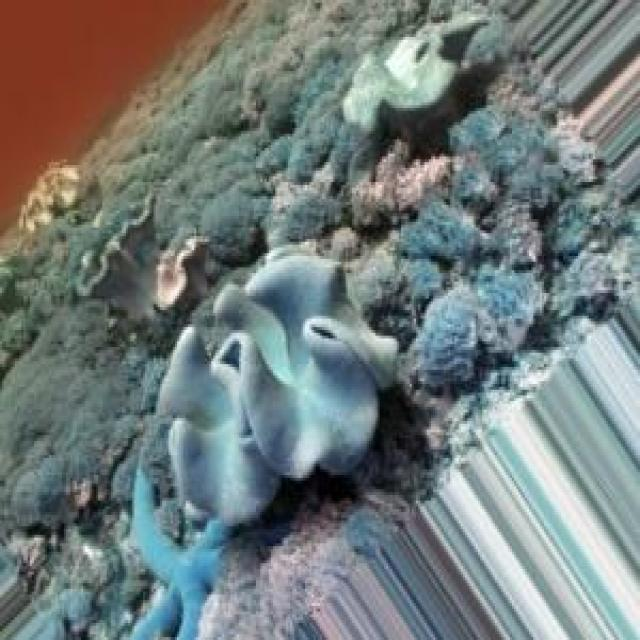Healthy: (153, 256, 398, 526), (1, 305, 152, 533), (163, 129, 351, 271), (342, 8, 502, 151), (159, 1, 353, 112), (128, 463, 232, 632), (411, 275, 552, 384), (74, 200, 178, 340), (408, 172, 568, 254), (1, 266, 74, 359), (103, 126, 163, 206), (156, 241, 214, 323), (22, 169, 86, 229)
